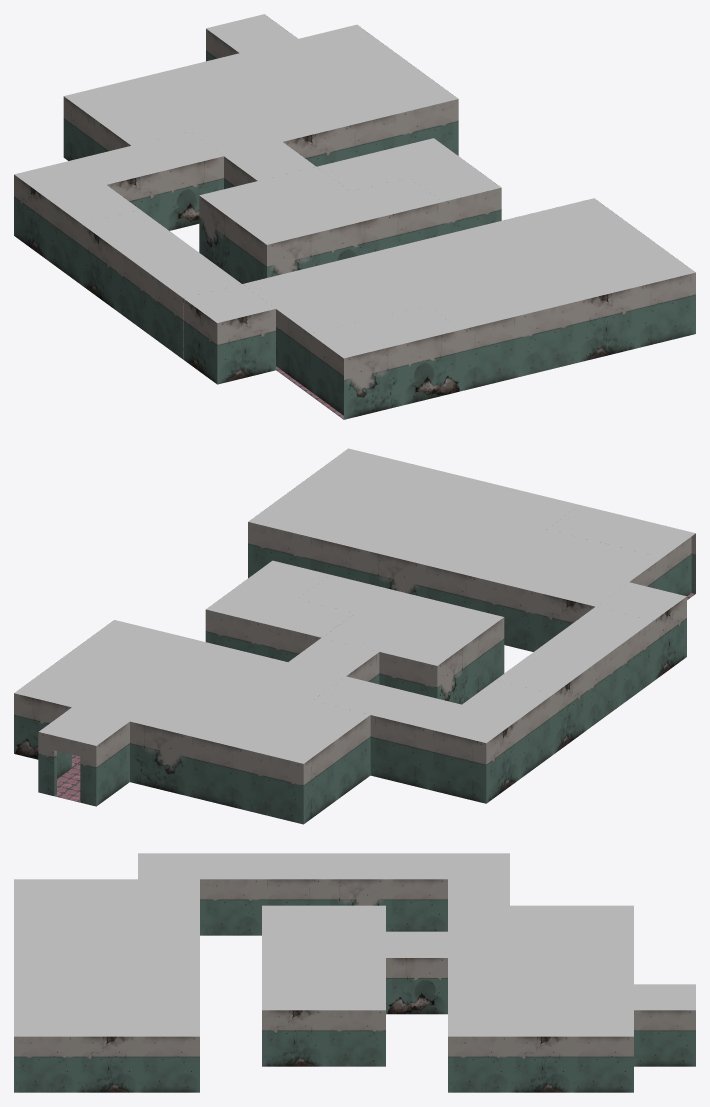
Rendered from DON'T USE.fbx.
3 views of the same model, one above another, from view 1: azimuth 30°, elevation 25°; view 2: azimuth 150°, elevation 25°; view 3: azimuth 270°, elevation 25° (orthographic). The views are drawn at different scales.
Parts seen in each view (by area): view 1: потолок, пол.081, пол.078, пол.074, пол.080, пол.077, пол.082, пол.079, пол.029, пол.026, пол.069, пол.073 (+16 smaller); view 2: потолок, пол.031, пол.068, пол.055, пол.030, пол.032, пол.062, Plane.001, пол.066, пол.071, пол.034, пол.073 (+19 smaller); view 3: потолок, пол.020, пол.021, пол.022, пол.023, пол.024, пол.025, пол.043, пол.061, пол.083, пол.084, пол.085 (+3 smaller).
Boxes of the visible parts, x1=… form: потолок: x1=14, y1=14, x2=695, y2=358; пол.081: x1=578, y1=287, x2=637, y2=362; пол.078: x1=402, y1=330, x2=461, y2=405; пол.074: x1=217, y1=309, x2=275, y2=384; пол.080: x1=520, y1=301, x2=578, y2=376; пол.077: x1=344, y1=344, x2=402, y2=419; пол.082: x1=637, y1=272, x2=695, y2=348; пол.079: x1=461, y1=315, x2=519, y2=390; пол.029: x1=165, y1=156, x2=223, y2=230; пол.026: x1=400, y1=99, x2=458, y2=155; пол.069: x1=115, y1=249, x2=149, y2=334; пол.073: x1=149, y1=274, x2=183, y2=359; потолок: x1=14, y1=448, x2=695, y2=763; пол.031: x1=187, y1=736, x2=245, y2=810; пол.068: x1=428, y1=729, x2=486, y2=803; пол.055: x1=370, y1=715, x2=428, y2=789; пол.030: x1=245, y1=750, x2=303, y2=824; пол.032: x1=130, y1=721, x2=187, y2=795; пол.062: x1=479, y1=578, x2=537, y2=651; Plane.001: x1=38, y1=732, x2=96, y2=806; пол.066: x1=248, y1=522, x2=305, y2=577; пол.071: x1=519, y1=694, x2=553, y2=778; пол.034: x1=14, y1=693, x2=71, y2=759; пол.073: x1=620, y1=621, x2=653, y2=705; потолок: x1=14, y1=853, x2=695, y2=1036; пол.020: x1=262, y1=1010, x2=323, y2=1066; пол.021: x1=324, y1=1010, x2=385, y2=1066; пол.022: x1=448, y1=1036, x2=509, y2=1092; пол.023: x1=510, y1=1036, x2=571, y2=1092; пол.024: x1=572, y1=1036, x2=633, y2=1092; пол.025: x1=386, y1=958, x2=447, y2=1014; пол.043: x1=634, y1=1010, x2=695, y2=1066; пол.061: x1=200, y1=879, x2=261, y2=935; пол.083: x1=14, y1=1036, x2=75, y2=1092; пол.084: x1=76, y1=1036, x2=137, y2=1092; пол.085: x1=138, y1=1036, x2=199, y2=1092.
Bounding box in the file's own units: 2802 × 400 × 4403.
